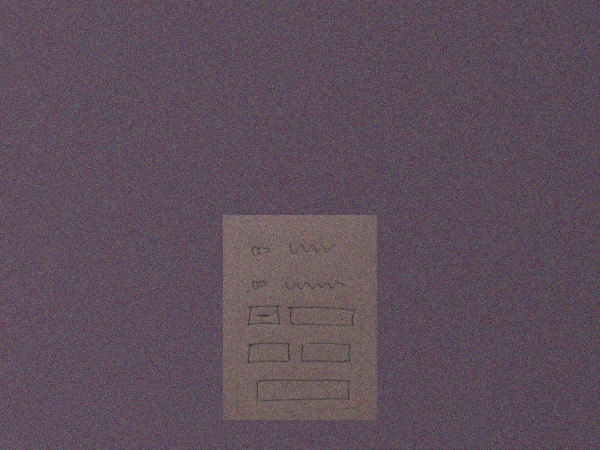button: (245, 302, 283, 330)
switch: (250, 242, 273, 258), (248, 278, 270, 292)
text: (285, 239, 339, 259), (282, 277, 349, 291)
text_input: (253, 378, 354, 404), (286, 304, 357, 330), (297, 341, 355, 367), (244, 341, 293, 367)
